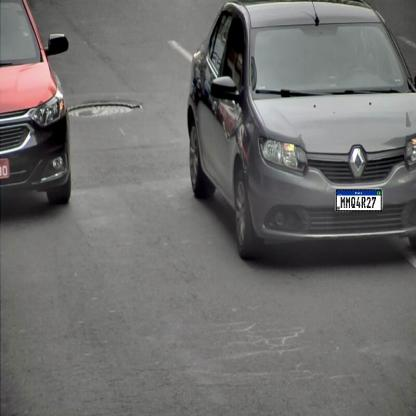PlacaM: (336, 190, 382, 212)
